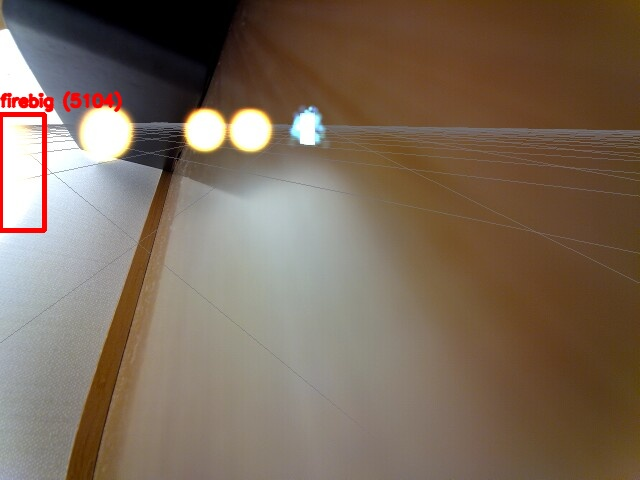firebig: (0, 114, 44, 230)
